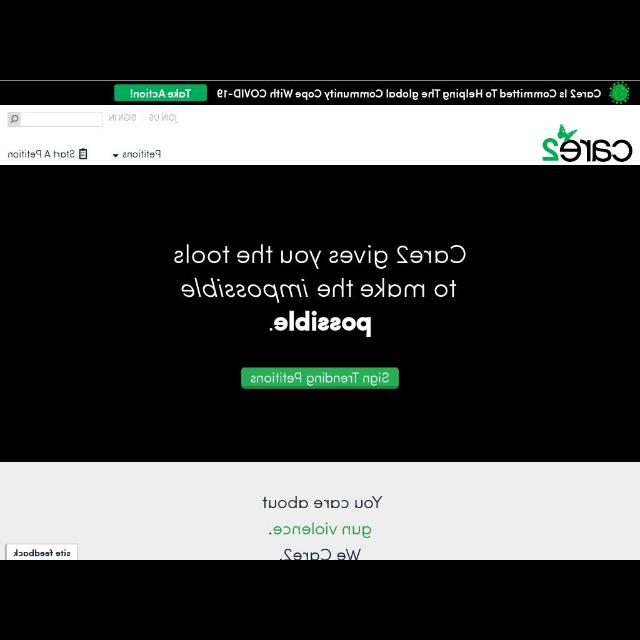backgroundimage: (0, 168, 638, 460)
icon: (9, 112, 21, 126)
iframe: (1, 82, 639, 104)
image: (536, 120, 634, 164), (608, 83, 630, 103)
input: (7, 112, 101, 126)
text: (168, 242, 468, 306), (252, 493, 382, 559), (216, 89, 606, 101), (267, 314, 373, 338), (148, 112, 180, 125), (105, 112, 136, 124)
textbutton: (240, 368, 398, 390), (113, 85, 207, 103), (5, 543, 76, 559)
toolbar: (0, 108, 638, 164)
